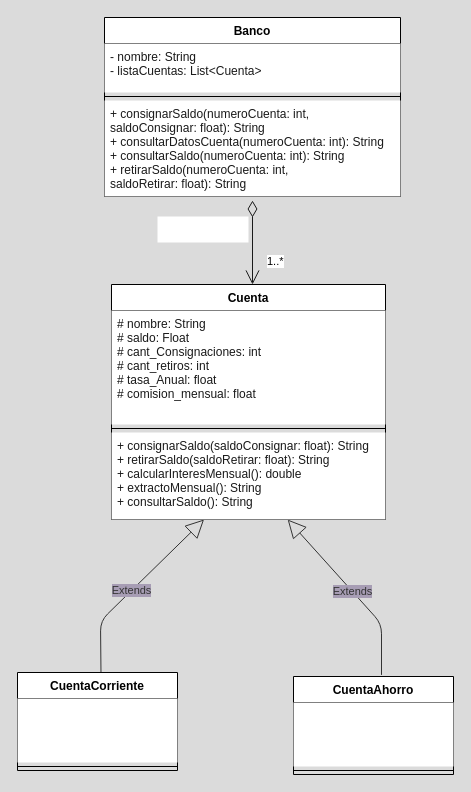
Image size: 471x792. Some labels were removed from this diagram. The shapes that lost their labels are listed below. From the top down, each one's centre as x and y in pixels, then its label:
At point (202, 229): "- listaCuentas".
At point (97, 730): "# sobreGiro: float".
At point (373, 734): "# isCuentaActiva: boolean".
